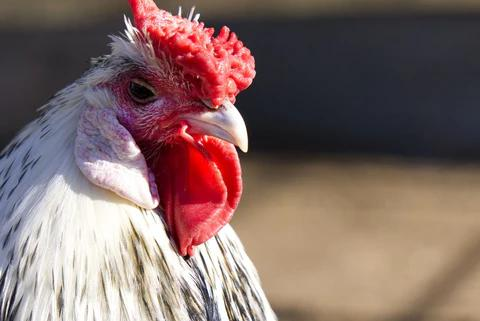AbNormal: (124, 0, 256, 105)
